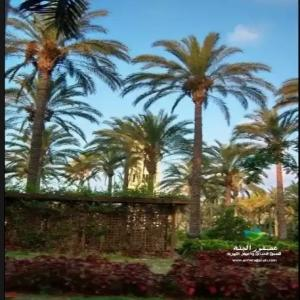palm tree: (119, 31, 274, 238), (4, 0, 130, 193), (232, 105, 299, 239)
